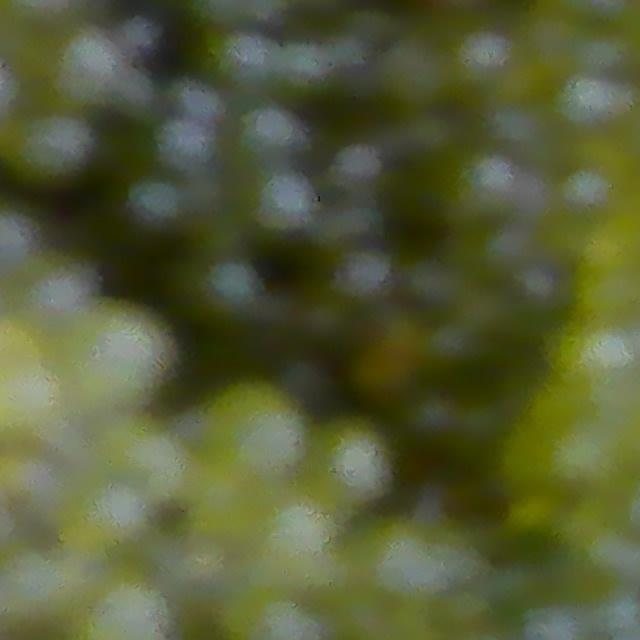SeaGrape: (48, 294, 175, 417), (200, 376, 311, 484), (7, 106, 97, 188), (48, 26, 129, 109), (77, 570, 171, 640), (314, 423, 393, 503), (248, 167, 318, 237), (233, 589, 320, 640), (153, 111, 219, 176), (234, 102, 303, 163), (125, 173, 187, 231)
